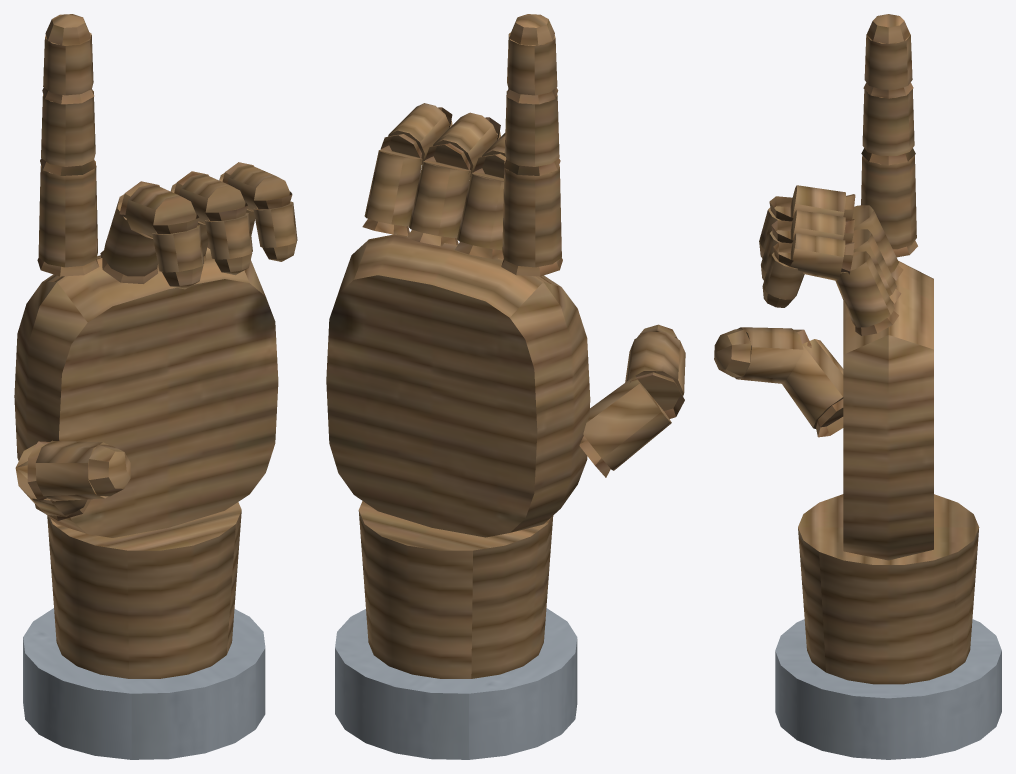
Rendered from mannequin_hand.glb.
3 views of the same model, side by side, from view 1: azimuth 30°, elevation 25°; view 2: azimuth 150°, elevation 25°; view 3: azimuth 270°, elevation 25° (orthographic). The views are drawn at different scales.
Parts seen in each view (by area): view 1: MannequinHandBody; view 2: MannequinHandBody; view 3: MannequinHandBody.
Boxes of the visible parts, <box> form: MannequinHandBody: <box>14,14,297,759</box>; MannequinHandBody: <box>326,14,685,759</box>; MannequinHandBody: <box>714,14,1001,759</box>.
Bounding box in the file's own units: 0.1379 × 0.3227 × 0.127.
3 materials, 3 textured.
